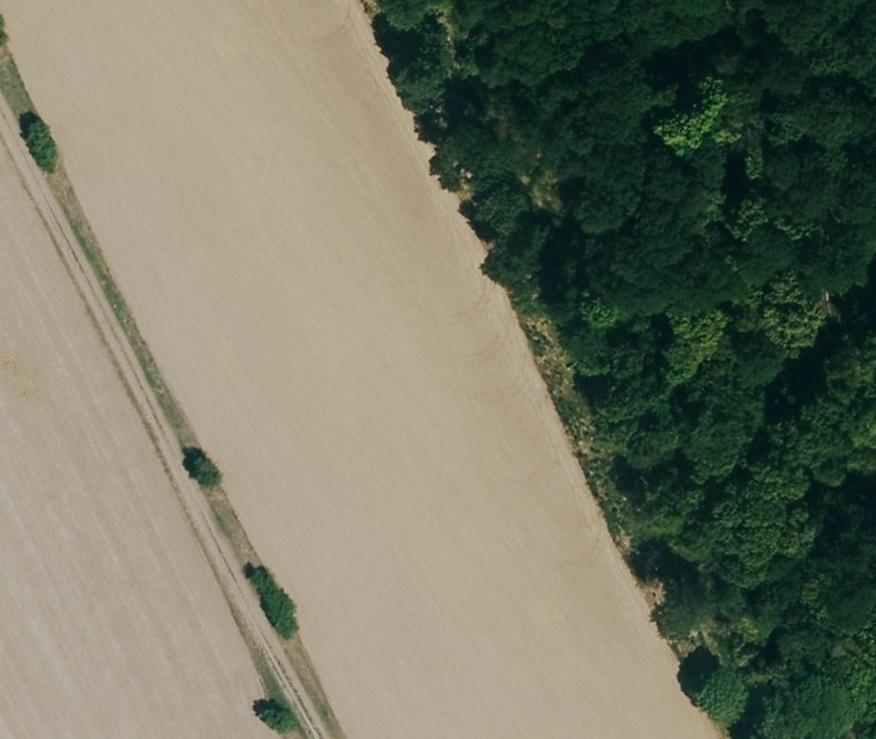field: (0, 2, 717, 737)
forest: (370, 0, 876, 737)
